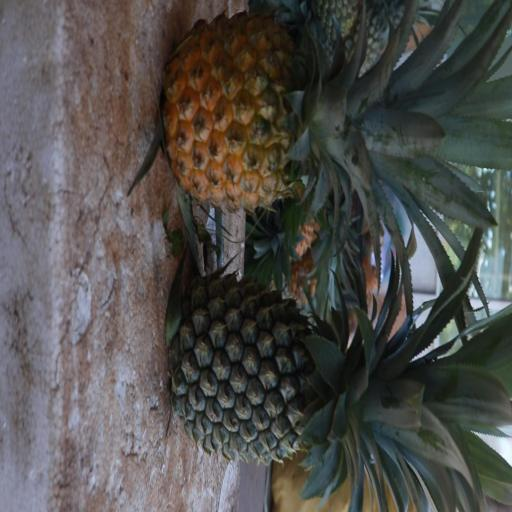Pineapple - v8 v1: (164, 22, 443, 203)
